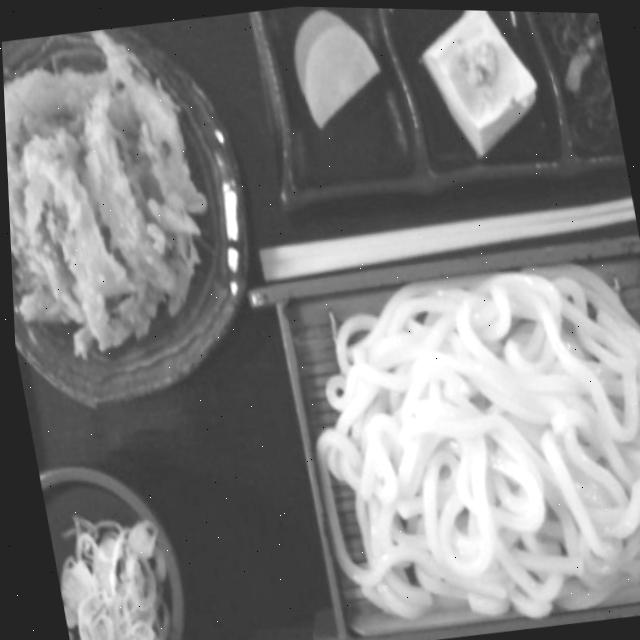豆腐料理: (380, 7, 579, 177)
